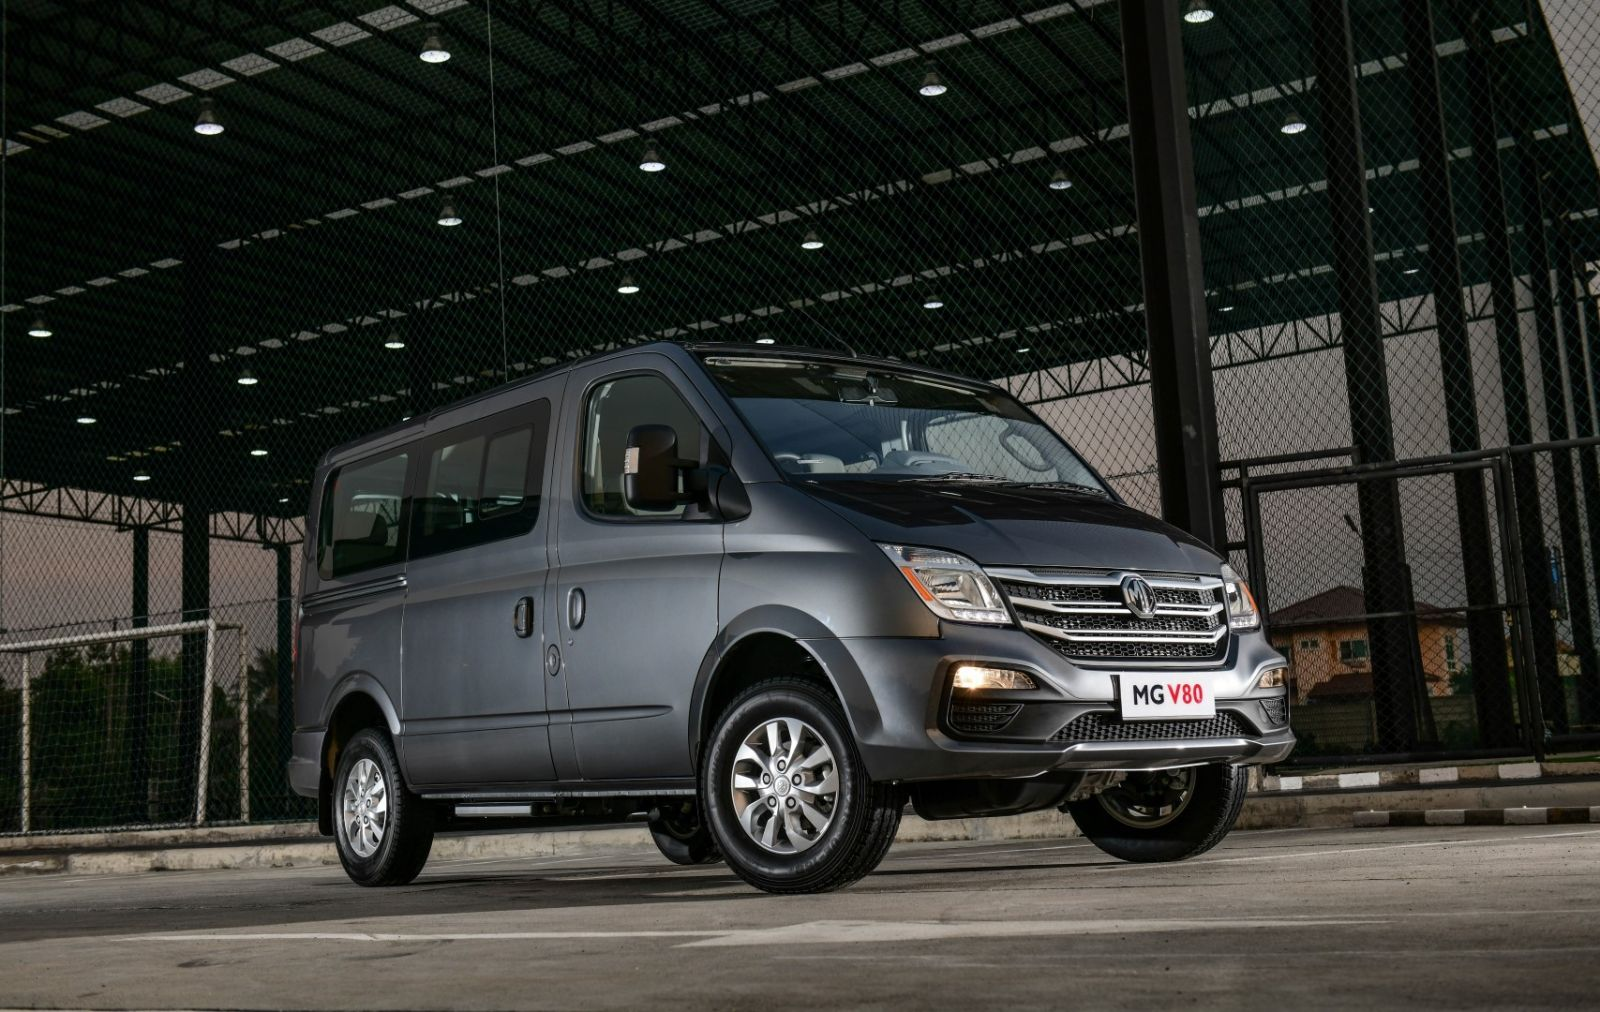van: (292, 337, 1302, 890)
